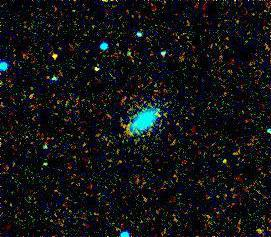star: (81, 58, 111, 88)
